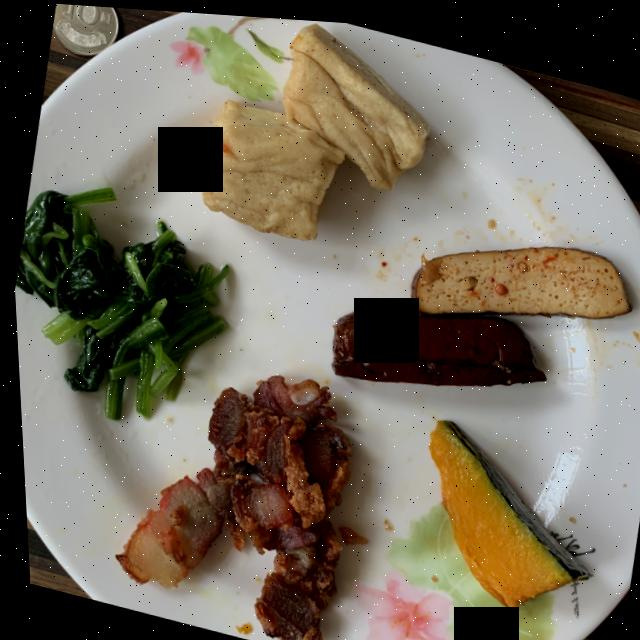coin: (52, 3, 119, 54)
creamy tofu -without sauce-: (200, 19, 428, 235)
firm tofu: (329, 238, 629, 379)
mustard greens: (12, 185, 227, 417)
pumpkin: (424, 414, 567, 601)
red grilled pork: (110, 371, 347, 640)
